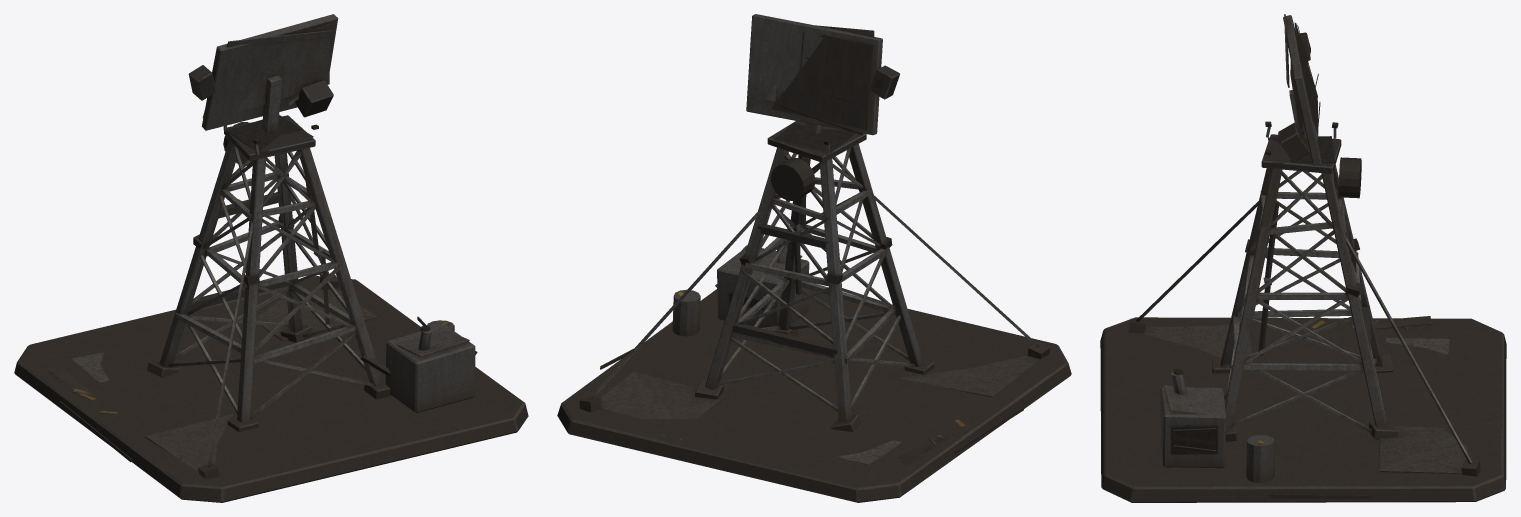
File: chs_seekerspire_wreck.fbx
3 views of the same model, side by side, from view 1: azimuth 30°, elevation 25°; view 2: azimuth 150°, elevation 25°; view 3: azimuth 270°, elevation 25° (orthographic).
Parts seen in each view (by area): view 1: base_bar, radar_bar; view 2: base_bar, radar_bar; view 3: base_bar, radar_bar.
Part boxes in pixels (x1,y1,x2,y2): base_bar: (14,115,528,502); radar_bar: (188,14,338,133); base_bar: (557,121,1071,502); radar_bar: (746,14,899,135); base_bar: (1100,121,1506,502); radar_bar: (1278,14,1321,165).
Size of the model in its own units: 1604 by 1798 by 1556.
Materials: 2 (2 with a texture image).
